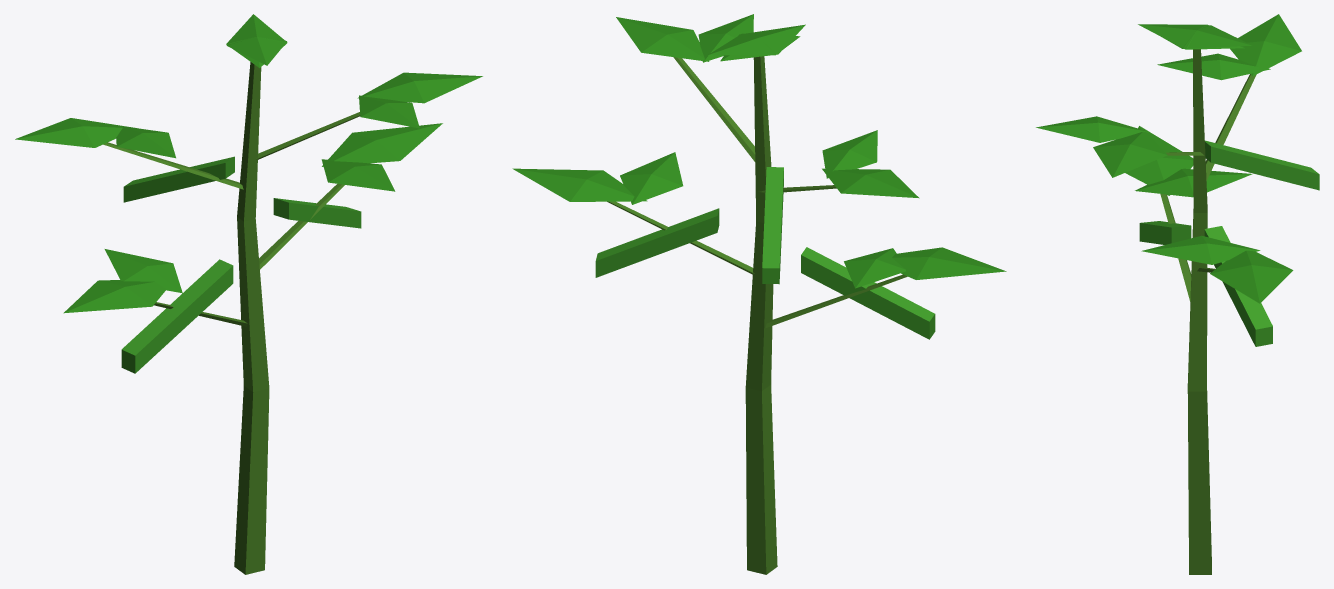
The model's file is leez_bean_plant.obj.
The picture shows the model from 3 angles, left to right: view 1: azimuth 30°, elevation 25°; view 2: azimuth 150°, elevation 25°; view 3: azimuth 270°, elevation 25°; orthographic projection. The views are drawn at different scales.
Visible parts, largest first — view 1: LeezBeanPlant; view 2: LeezBeanPlant; view 3: LeezBeanPlant.
Boxes of the visible parts, x1=… form: LeezBeanPlant: x1=15, y1=14, x2=482, y2=574; LeezBeanPlant: x1=512, y1=14, x2=1006, y2=574; LeezBeanPlant: x1=1036, y1=14, x2=1319, y2=574.
Bounding box in the file's own units: 0.8108 × 0.938 × 0.4454.
